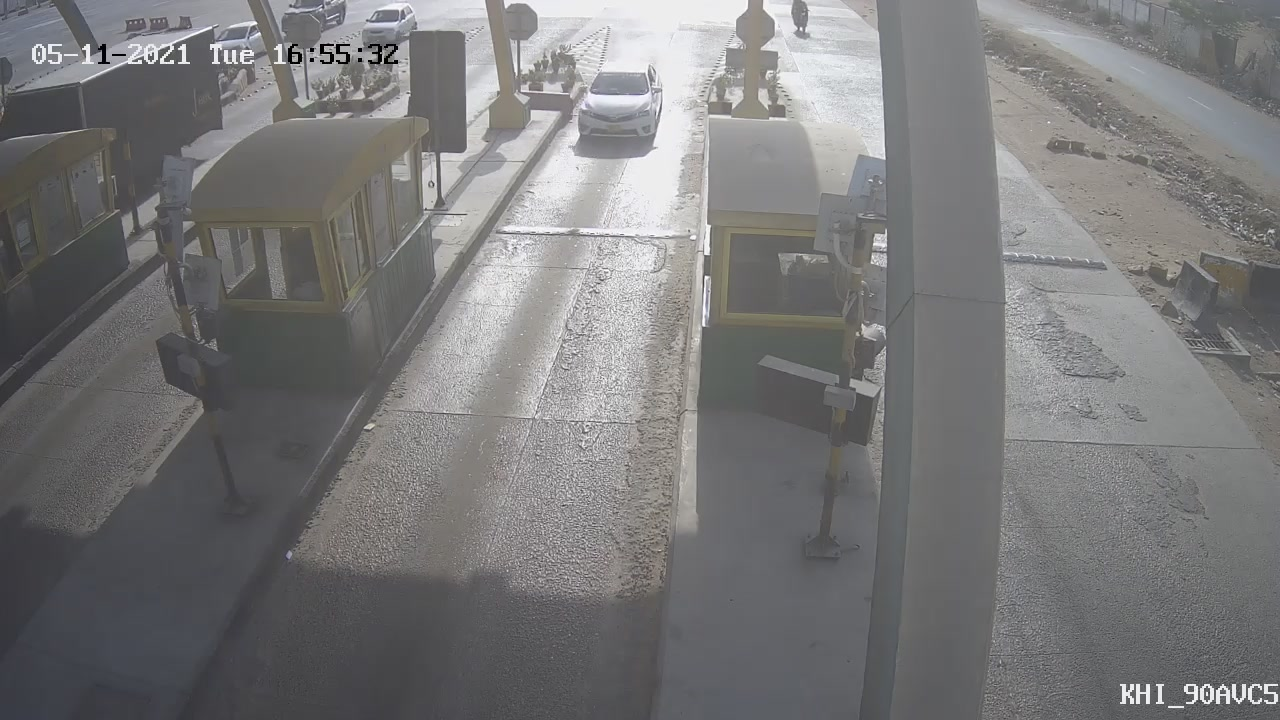F1: (550, 43, 677, 168)
